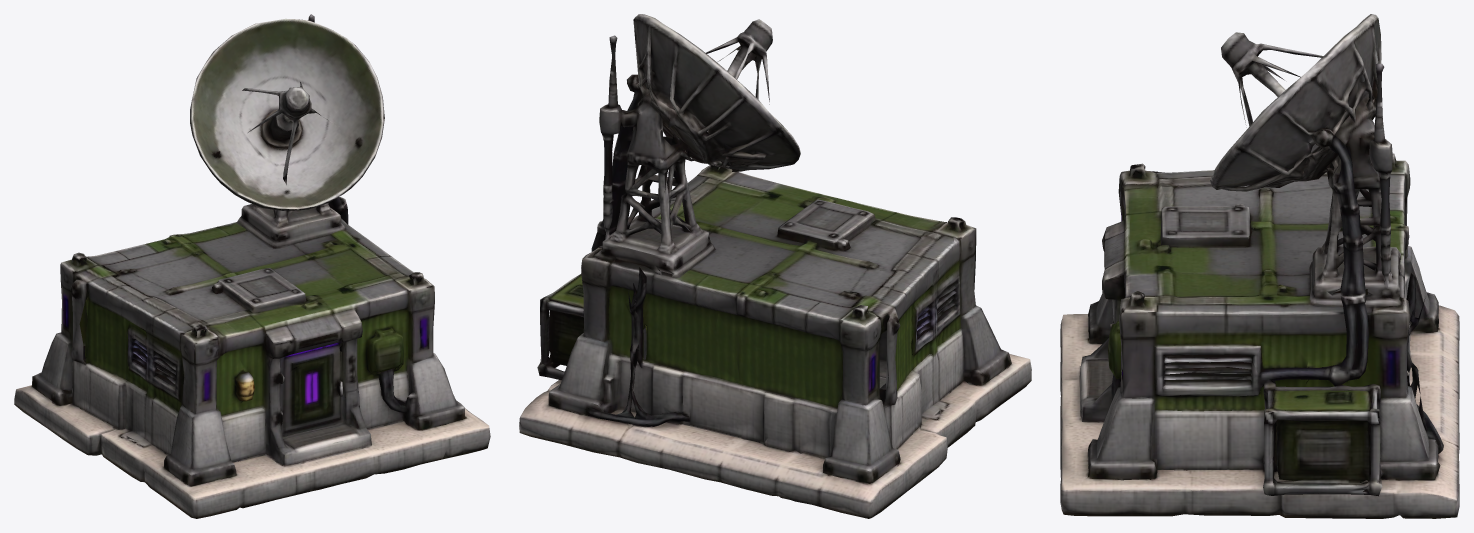
The model's file is comms_l03.glb.
3 views of the same model, side by side, from view 1: azimuth 30°, elevation 25°; view 2: azimuth 150°, elevation 25°; view 3: azimuth 270°, elevation 25° (orthographic). The views are drawn at different scales.
Visible parts, largest first — view 1: world; view 2: world; view 3: world.
Part boxes in pixels (bbox=[...]): world: bbox=[14, 14, 490, 518]; world: bbox=[519, 14, 1031, 518]; world: bbox=[1060, 14, 1459, 518].
Size of the model in its own units: 0.967 by 1 by 0.8238.
Materials: 1 (1 with a texture image).
